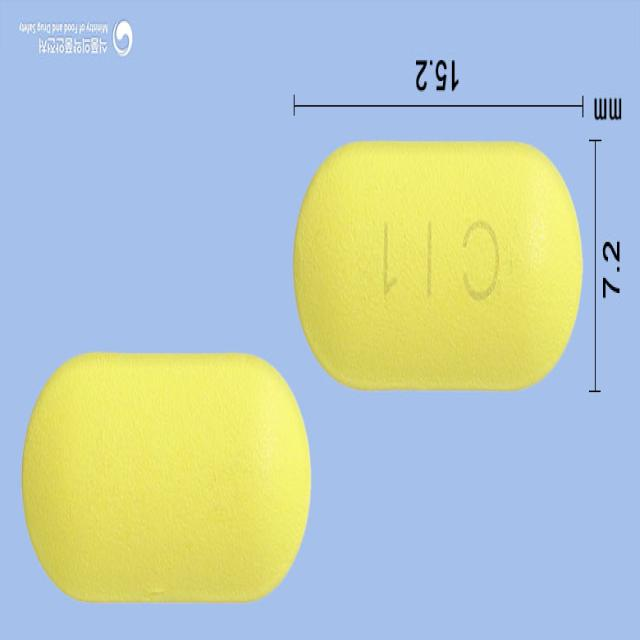Cephamethyl Tab: (21, 350, 312, 606), (292, 142, 583, 393)
